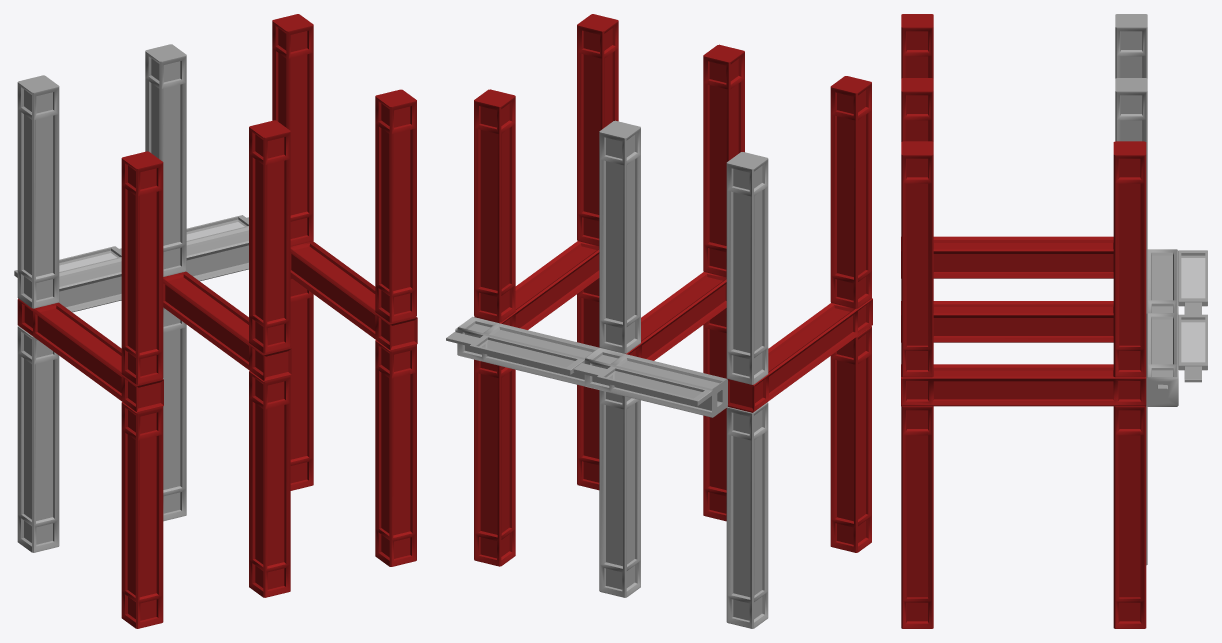
File: Stage06L.fbx
3 renders of one model, left to right at view 1: azimuth 30°, elevation 25°; view 2: azimuth 150°, elevation 25°; view 3: azimuth 270°, elevation 25°, orthographic. The views are drawn at different scales.
Visible parts, largest first — view 1: BackFrameUnit (×3), PillarFrame (×2), ScaffoldingFrame (×2); view 2: BackFrameUnit (×3), PillarFrame (×2), ScaffoldingFrame (×2), ScaffoldingNetFrame (×2), ScaffoldingNet (×2); view 3: BackFrameUnit (×3), ScaffoldingFrame (×2), PillarFrame (×2), ScaffoldingNet (×2), ScaffoldingNetFrame (×2).
Boxes of the visible parts, x1,y1,x2,y2 form: BackFrameUnit (×3): (17, 14, 417, 628); PillarFrame (×2): (17, 44, 186, 552); ScaffoldingFrame (×2): (59, 227, 248, 312); BackFrameUnit (×3): (474, 14, 872, 566); PillarFrame (×2): (599, 120, 768, 628); ScaffoldingFrame (×2): (455, 316, 727, 417); ScaffoldingNetFrame (×2): (446, 332, 711, 405); ScaffoldingNet (×2): (479, 340, 702, 398); BackFrameUnit (×3): (901, 14, 1146, 628); ScaffoldingFrame (×2): (1146, 249, 1178, 406); PillarFrame (×2): (1115, 14, 1147, 565); ScaffoldingNet (×2): (1181, 255, 1205, 362); ScaffoldingNetFrame (×2): (1178, 250, 1207, 382).
Size of the model in its own units: 1055 by 943 by 1607.
